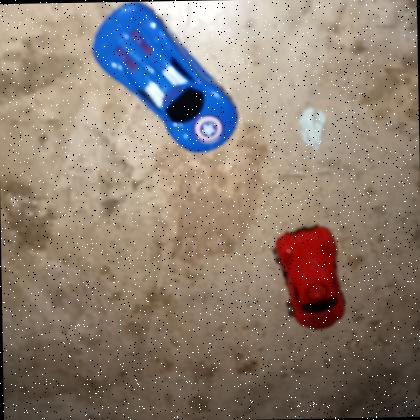Car: (91, 1, 238, 152), (273, 223, 346, 329)
